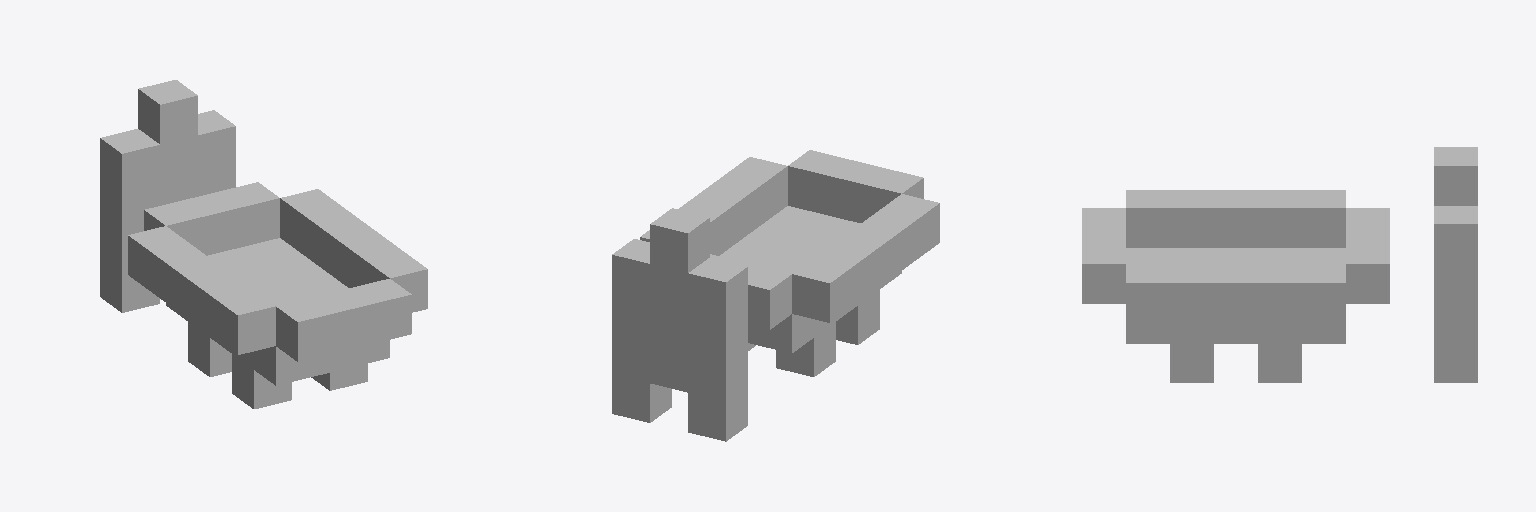
The model's file is PlayerWithCart.obj.
3 views of the same model, side by side, from view 1: azimuth 30°, elevation 25°; view 2: azimuth 150°, elevation 25°; view 3: azimuth 270°, elevation 25° (orthographic).
Parts seen in each view (by area): view 1: object 1; view 2: object 1; view 3: object 1.
Boxes of the visible parts, x1,y1,x2,y2 form: object 1: [100, 80, 427, 408]; object 1: [612, 150, 939, 441]; object 1: [1082, 147, 1477, 382].
Size of the model in its own units: 0.5 by 0.5 by 0.9.